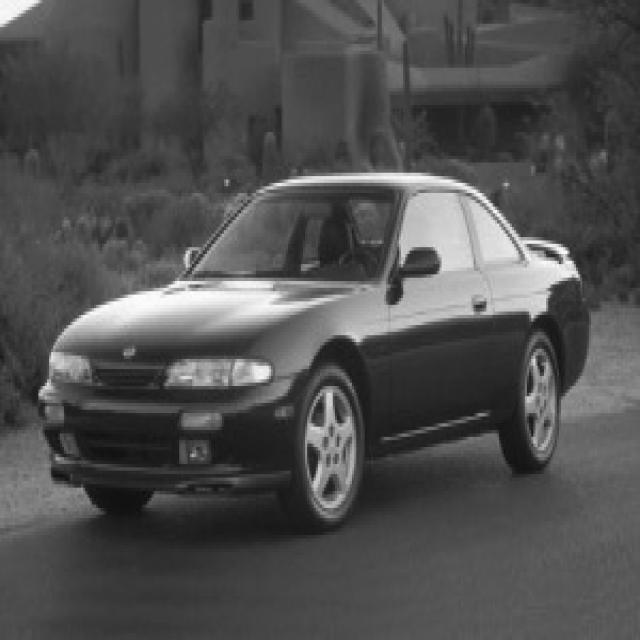car: (36, 169, 589, 532)
